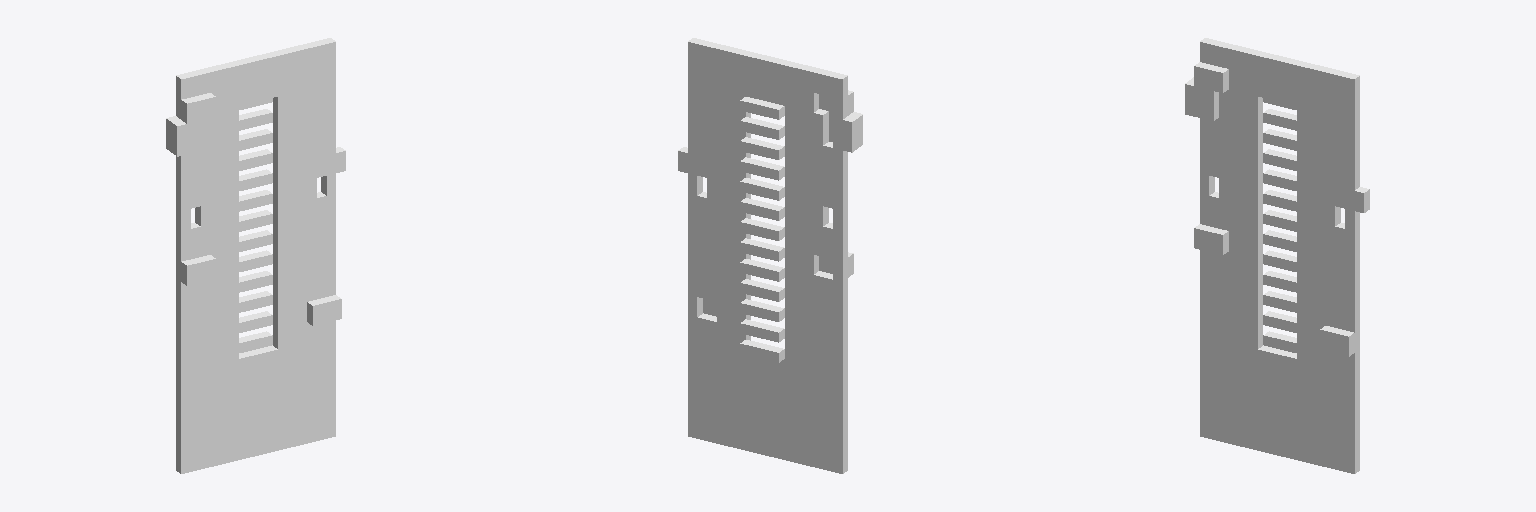
File: SmallBuilding02-3.obj
3 views of the same model, side by side, from view 1: azimuth 30°, elevation 25°; view 2: azimuth 150°, elevation 25°; view 3: azimuth 330°, elevation 25° (orthographic).
Parts seen in each view (by area): view 1: object 1; view 2: object 1; view 3: object 1.
Part boxes in pixels (bbox=[...]): object 1: bbox=[166, 38, 345, 473]; object 1: bbox=[678, 38, 862, 473]; object 1: bbox=[1185, 38, 1369, 473].
Size of the model in its own units: 1.8 by 3.9 by 0.3.